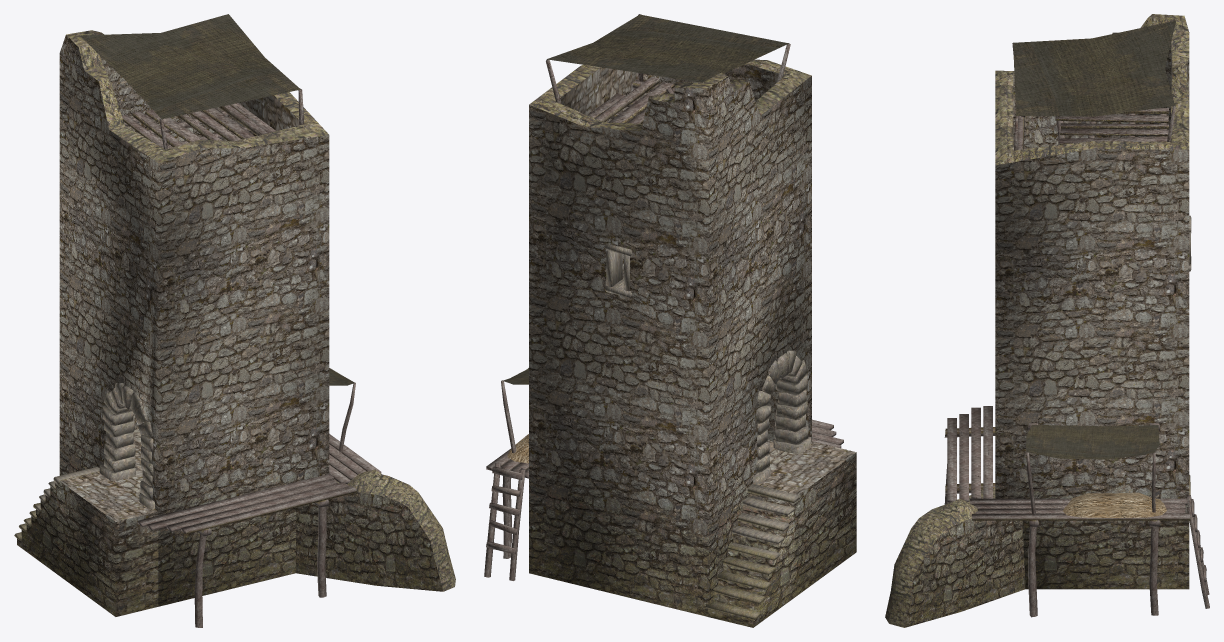
Rendered from rats_nest.FBX.
The picture shows the model from 3 angles, left to right: view 1: azimuth 30°, elevation 25°; view 2: azimuth 150°, elevation 25°; view 3: azimuth 270°, elevation 25°; orthographic projection. The views are drawn at different scales.
Parts seen in each view (by area): view 1: rats_nest_tower_attached_2UVW; view 2: rats_nest_tower_attached_2UVW; view 3: rats_nest_tower_attached_2UVW.
Boxes of the visible parts, <box> form: rats_nest_tower_attached_2UVW: <box>14,14,455,627</box>; rats_nest_tower_attached_2UVW: <box>484,14,856,627</box>; rats_nest_tower_attached_2UVW: <box>885,14,1209,627</box>.
Size of the model in its own units: 889 by 856 by 1455.
